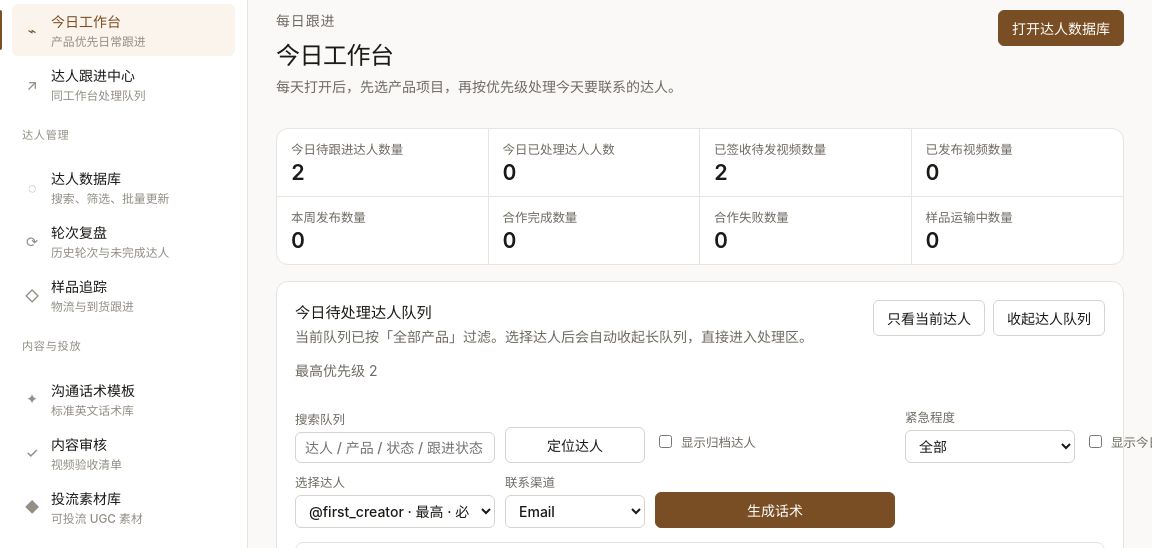
Test: operations workbench navigation and dashboard › selecting a creator collapses the compact queue and processing next creator advances within the filter
The width and height of the screenshot is (1164, 548).
Select "@first_creator · 最高 · 必须处理" in the dropdown labelled "选择达人" at point(395, 511), box [295, 495, 495, 528]
(page scrolled)
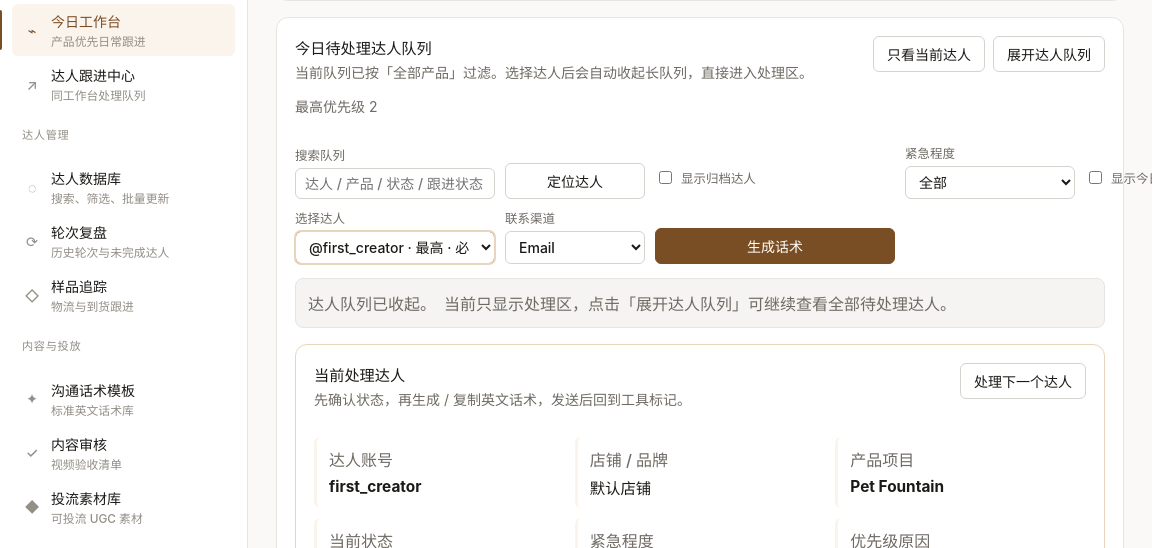
Expected: the element with test id "current-creator-panel" shows "first_creator", [329, 477, 422, 496]
Now the text "达人队列已收起。" is shown, box [308, 291, 436, 315]
Click the button "生成话术".
click(775, 246)  # box [655, 228, 895, 264]
(page scrolled)
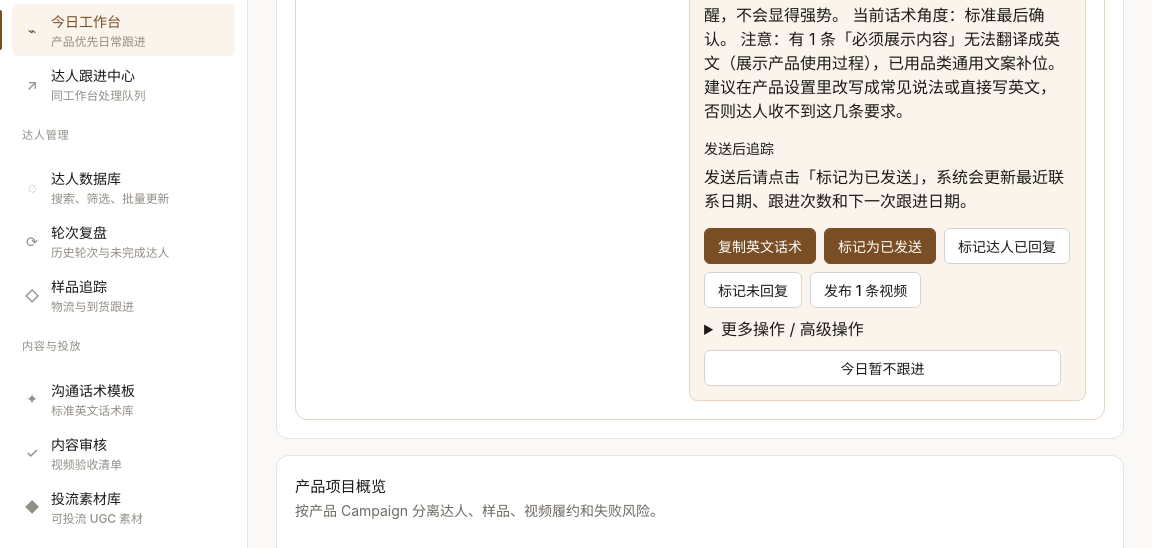
Click the button "标记为已发送".
click(880, 246)  # box [824, 228, 936, 264]
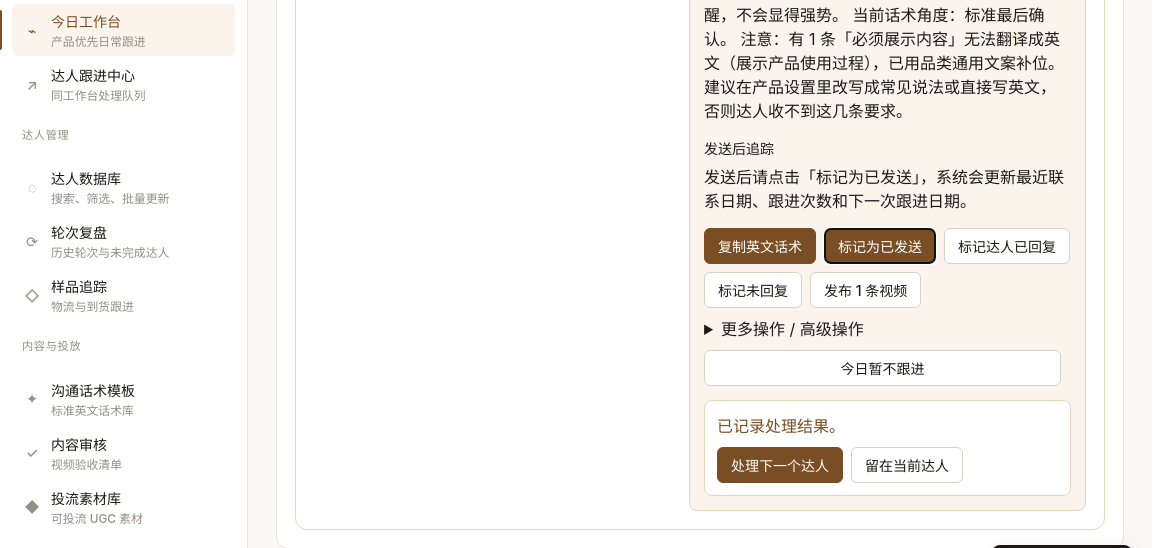
Click the button "处理下一个达人".
click(780, 465)  # box [717, 447, 843, 483]
(page scrolled)
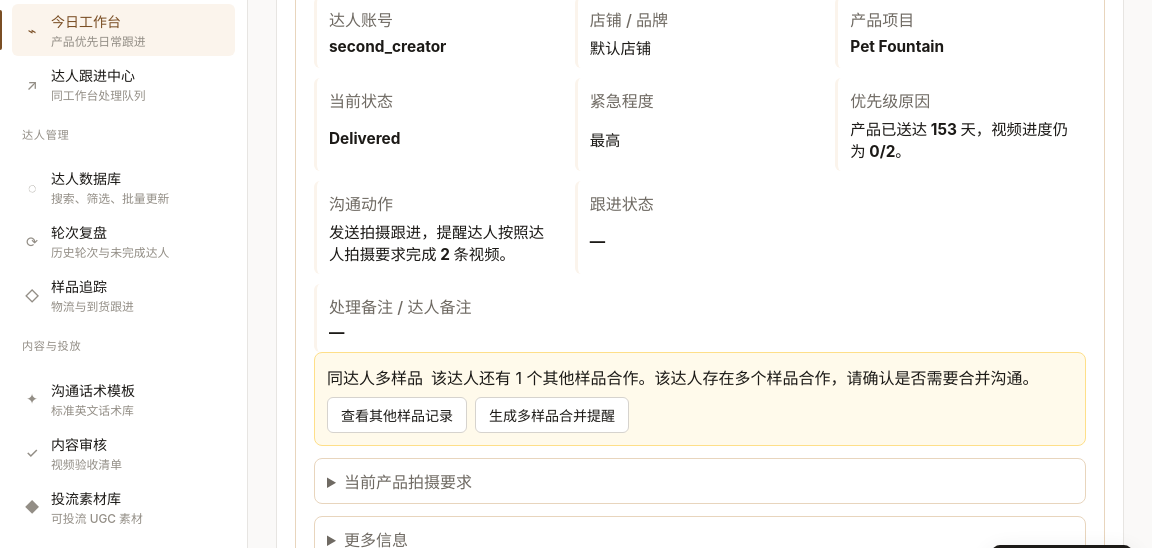
Now the element with test id "current-creator-panel" shows "second_creator", box [329, 37, 446, 56]
